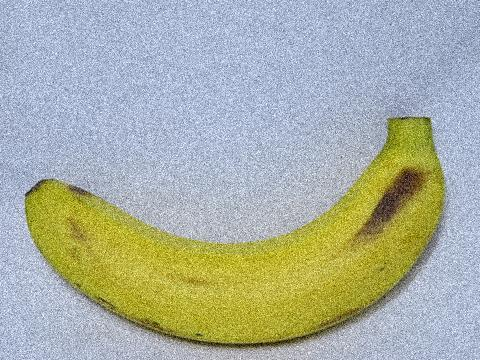freshripe: (17, 103, 458, 359)
